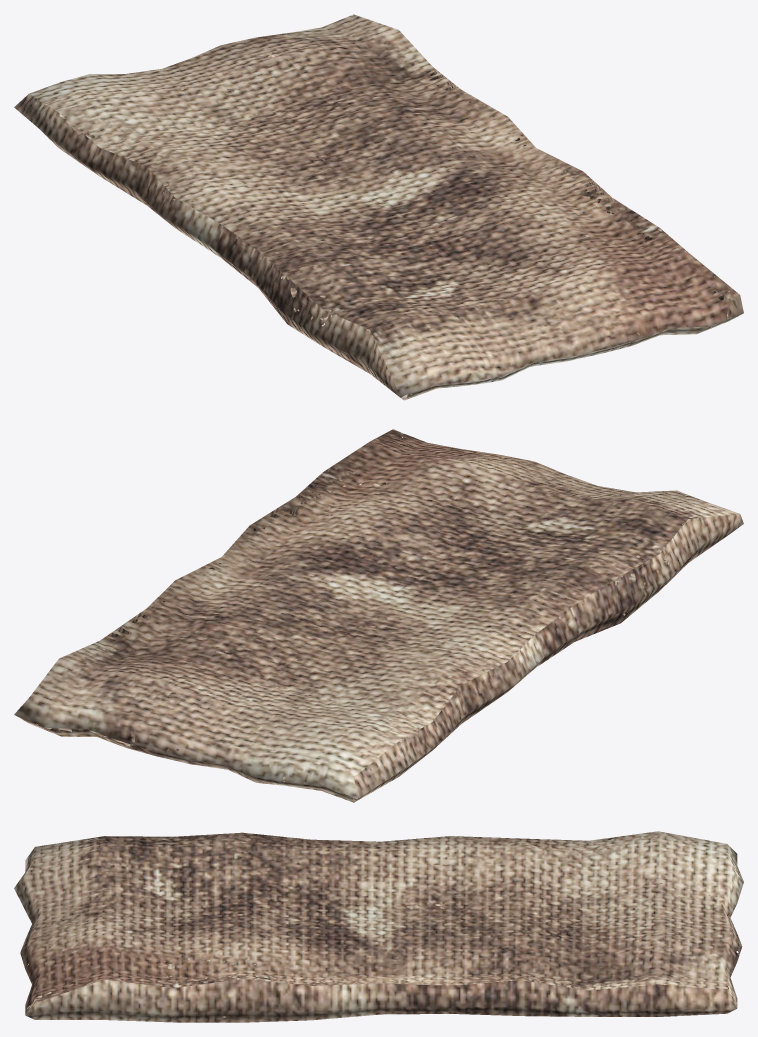
The model's file is pillow.fbx.
3 renders of one model, top to bottom at view 1: azimuth 30°, elevation 25°; view 2: azimuth 150°, elevation 25°; view 3: azimuth 270°, elevation 25°, orthographic. The views are drawn at different scales.
Parts seen in each view (by area): view 1: pillow; view 2: pillow; view 3: pillow.
Part boxes in pixels (x1,y1,x2,y2): pillow: (14,14,743,400); pillow: (14,429,743,802); pillow: (14,831,743,1022).
Size of the model in its own units: 0.3324 by 0.0498 by 0.6324.
